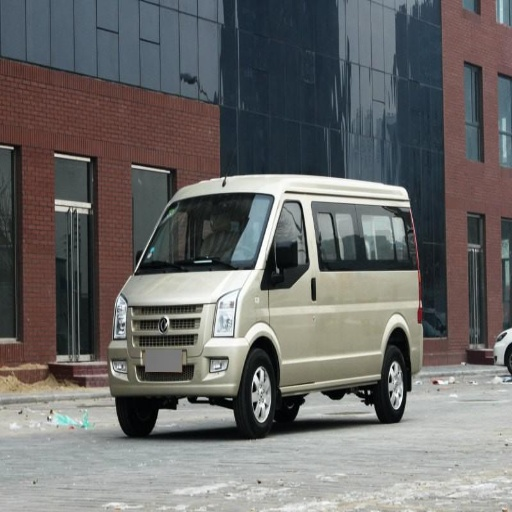front_bumper: (107, 303, 248, 394)
front_glass: (137, 194, 273, 272)
front_left_door: (268, 198, 349, 382)
trunk: (354, 272, 417, 356)
